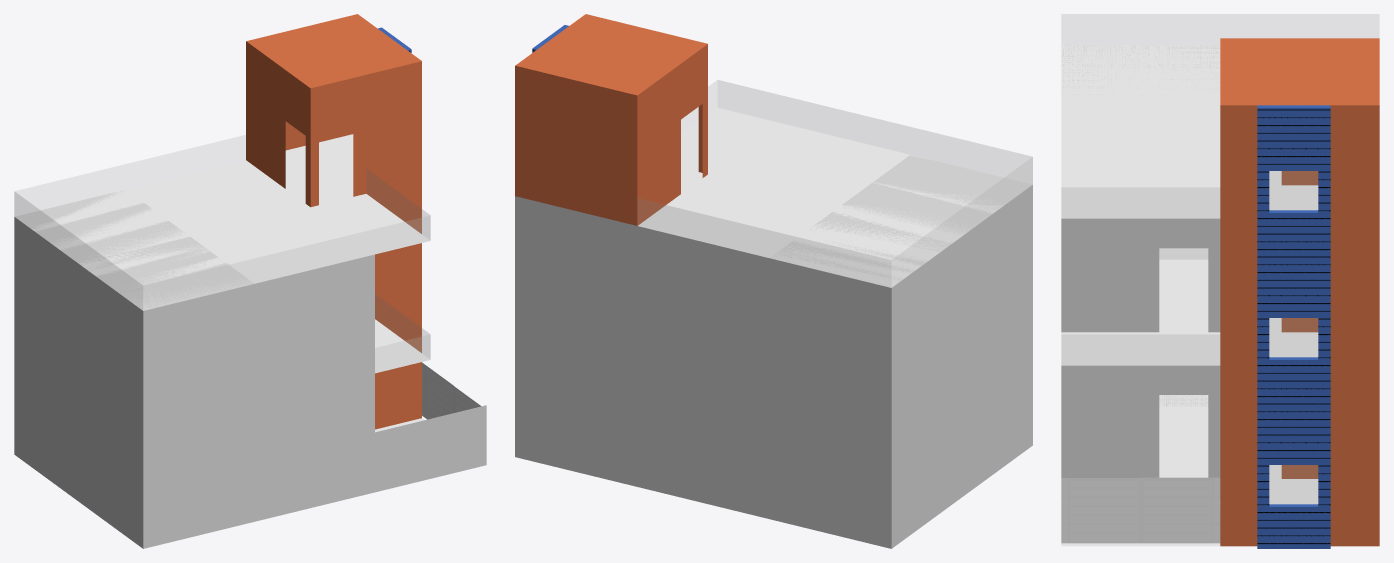
The model's file is sideHouse2.glb.
The picture shows the model from 3 angles, left to right: view 1: azimuth 30°, elevation 25°; view 2: azimuth 150°, elevation 25°; view 3: azimuth 270°, elevation 25°; orthographic projection. The views are drawn at different scales.
Visible parts, largest first — view 1: Bounds, room7, room4, room1, room5, room2, room6, room3, 1stFloor, Gate2; view 2: Bounds, room7, room5, room2, room4, room1; view 3: Bounds, BlueStrip, room7, room6, room3, balconyWall, groundWall, 1stFloor, Gate2, Gate1, room4, room1.
Boxes of the visible parts, <box> form: Bounds: <box>14,134,486,548</box>; room7: <box>246,14,421,207</box>; room4: <box>79,236,254,429</box>; room1: <box>79,383,254,548</box>; room5: <box>14,190,185,382</box>; room2: <box>14,336,78,501</box>; room6: <box>366,180,421,310</box>; room3: <box>375,299,421,429</box>; 1stFloor: <box>375,294,430,373</box>; Gate2: <box>422,362,454,419</box>; Bounds: <box>515,80,1032,548</box>; room7: <box>515,14,707,225</box>; room5: <box>769,207,951,418</box>; room2: <box>769,378,948,548</box>; room4: <box>842,155,1032,363</box>; room1: <box>962,325,1032,496</box>; Bounds: <box>1061,14,1379,546</box>; BlueStrip: <box>1257,105,1330,548</box>; room7: <box>1220,38,1379,252</box>; room6: <box>1220,252,1379,399</box>; room3: <box>1220,399,1379,546</box>; balconyWall: <box>1061,218,1220,332</box>; groundWall: <box>1061,365,1220,477</box>; 1stFloor: <box>1061,259,1318,365</box>; Gate2: <box>1141,477,1220,543</box>; Gate1: <box>1061,478,1140,543</box>; room4: <box>1061,45,1220,259</box>; room1: <box>1159,395,1208,406</box>.
Bounding box in the file's own units: 12.34 × 12.12 × 7.92.
Materials: 6 (2 with a texture image).
